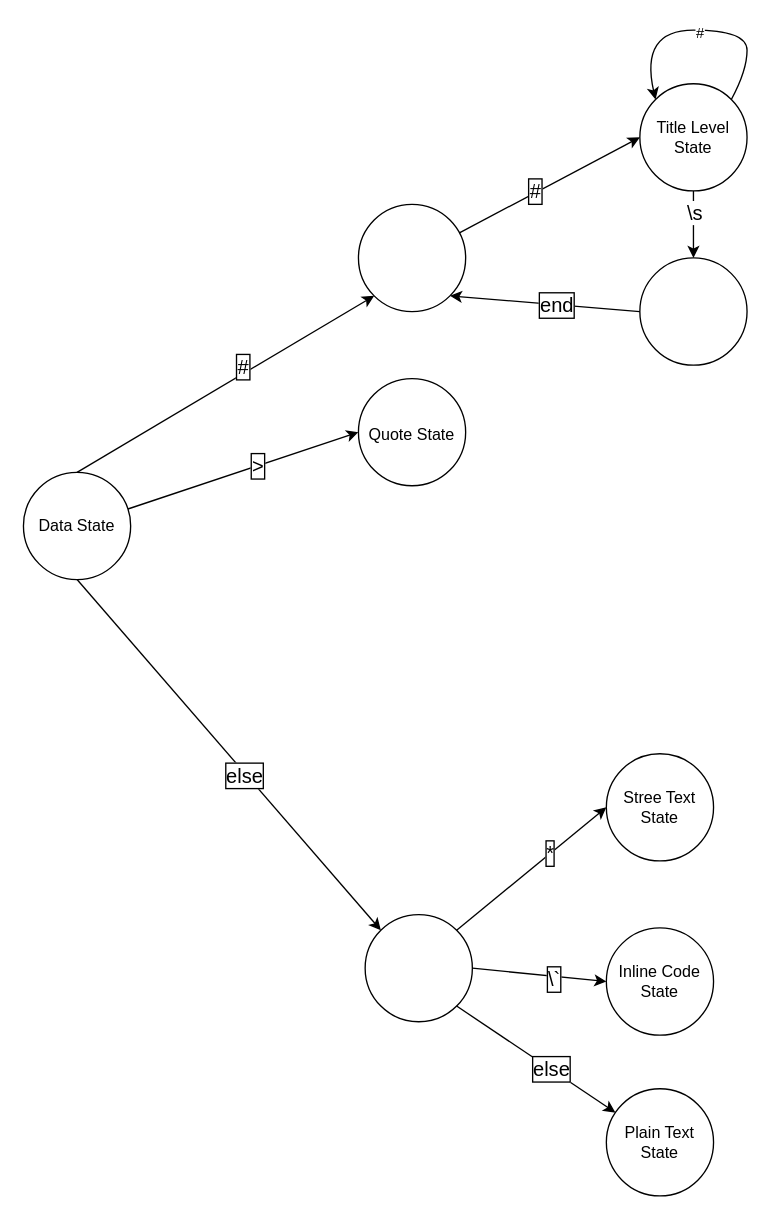
This 771x1219 diagram has some shape labels left out. The centre of each missing label's shape, as x and y in pixels:
"Text State" belongs at point (418, 967).
"Title Open State" belongs at point (411, 257).
"Title Value State" belongs at point (693, 311).
